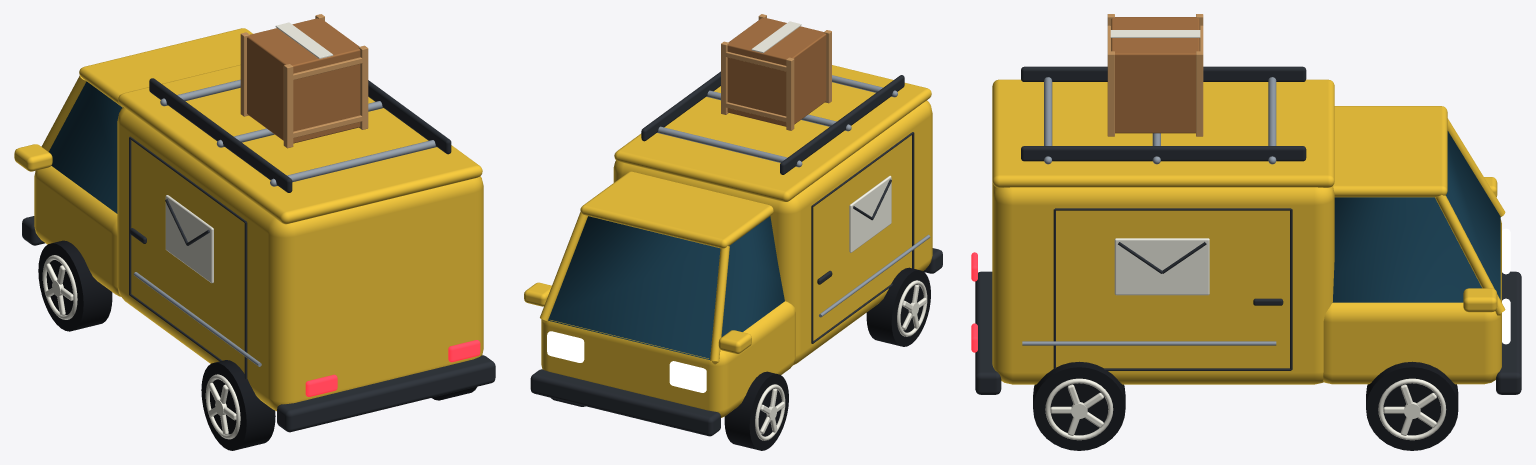
File: delivery-van.glb
3 renders of one model, left to right at view 1: azimuth 30°, elevation 25°; view 2: azimuth 150°, elevation 25°; view 3: azimuth 270°, elevation 25°, orthographic. The views are drawn at different scales.
Parts seen in each view (by area): view 1: CargoBody, CargoRoof, Crate, Tire (×2), RearBumper, CabLower, Windows, Roof, RoofRackRail (×2), EnvelopeBadge, RackCrossbar (×3), CornerPost (×3) (+8 smaller); view 2: CargoBody, Windows, CargoRoof, CabLower, Roof, Crate, Tire (×2), FrontBumper, RoofRackRail (×2), A_Pillar (×2), EnvelopeBadge, Headlight (×2) (+6 smaller); view 3: CargoBody, CargoRoof, Windows, CabLower, Roof, Tire (×2), Crate, RoofRackRail (×2), EnvelopeBadge, RearBumper, FrontBumper, A_Pillar (×2) (+7 smaller).
Boxes of the visible parts, bbox=[...] form: CargoBody: bbox=[117, 107, 483, 411]; CargoRoof: bbox=[118, 64, 482, 224]; Crate: bbox=[247, 18, 360, 143]; Tire (×2): bbox=[38, 240, 275, 450]; RearBumper: bbox=[277, 355, 495, 432]; CabLower: bbox=[34, 166, 121, 296]; Windows: bbox=[49, 81, 122, 213]; Roof: bbox=[79, 28, 252, 107]; RoofRackRail (×2): bbox=[149, 78, 451, 192]; EnvelopeBadge: bbox=[165, 195, 213, 283]; RackCrossbar (×3): bbox=[160, 79, 436, 186]; CornerPost (×3): bbox=[240, 32, 368, 148]; CargoBody: bbox=[613, 100, 932, 365]; Windows: bbox=[548, 216, 784, 359]; CargoRoof: bbox=[614, 65, 931, 201]; CabLower: bbox=[541, 301, 795, 417]; Roof: bbox=[580, 171, 773, 248]; Crate: bbox=[727, 17, 826, 126]; Tire (×2): bbox=[724, 267, 930, 450]; FrontBumper: bbox=[530, 369, 720, 436]; RoofRackRail (×2): bbox=[641, 71, 904, 174]; A_Pillar (×2): bbox=[540, 212, 729, 361]; EnvelopeBadge: bbox=[849, 175, 891, 252]; Headlight (×2): bbox=[547, 331, 706, 392]; CargoBody: bbox=[992, 182, 1334, 384]; CargoRoof: bbox=[992, 79, 1334, 187]; Windows: bbox=[1332, 131, 1500, 302]; CabLower: bbox=[1323, 219, 1501, 384]; Roof: bbox=[1333, 106, 1447, 197]; Tire (×2): bbox=[1033, 361, 1458, 450]; Crate: bbox=[1111, 17, 1199, 133]; RoofRackRail (×2): bbox=[1021, 66, 1306, 161]; EnvelopeBadge: bbox=[1114, 238, 1209, 295]; RearBumper: bbox=[975, 271, 1001, 394]; FrontBumper: bbox=[1496, 271, 1521, 394]; A_Pillar (×2): bbox=[1435, 118, 1505, 314].
Size of the model in its own units: 2.16 by 2.92 by 4.05.
